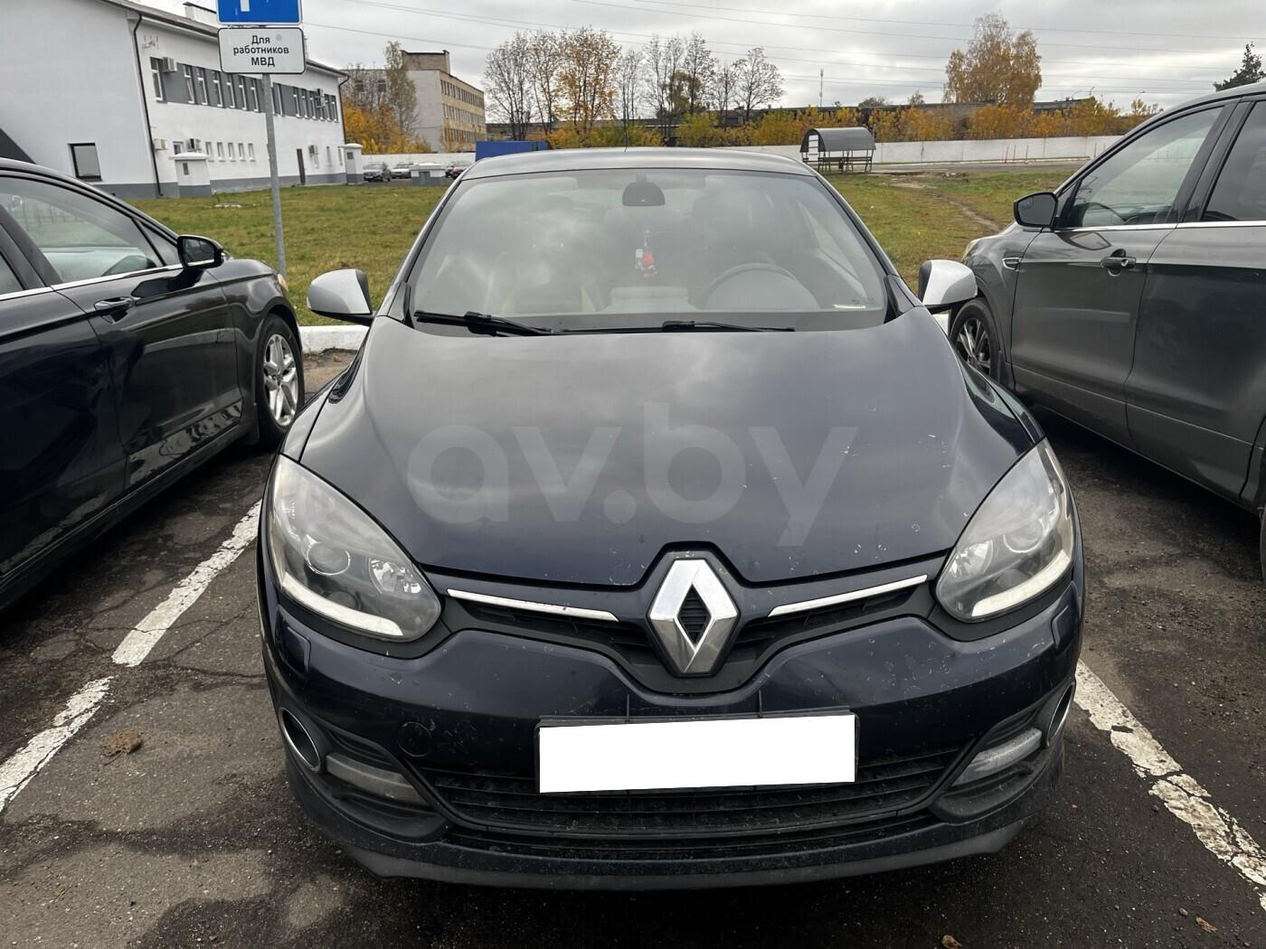Megane_2008-2014: (262, 136, 1095, 901)
